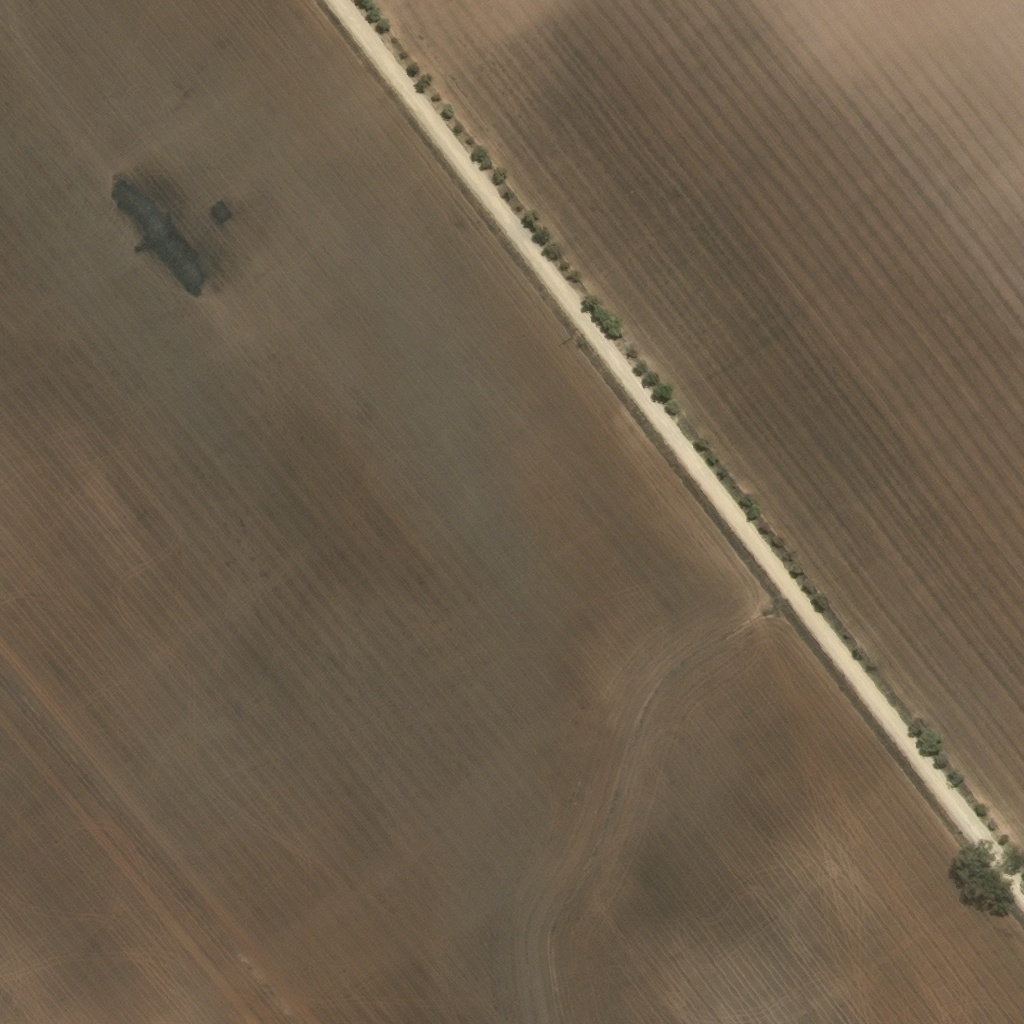4 un-classified: (600, 674, 611, 686)
